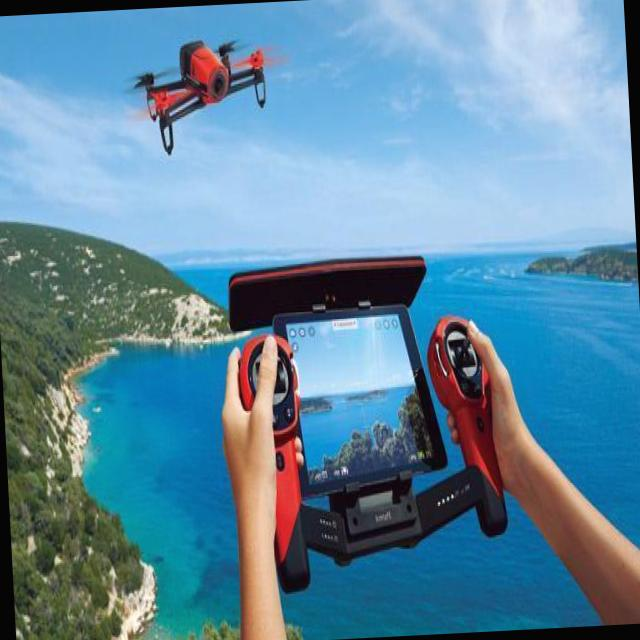drone: (128, 28, 294, 162)
